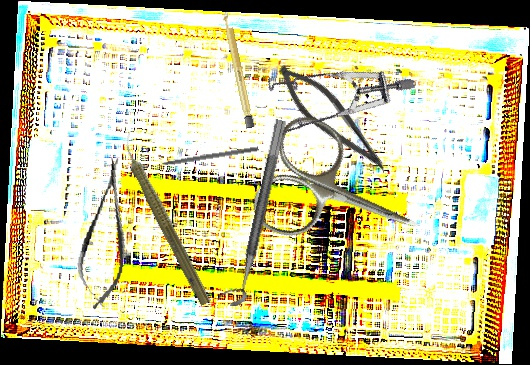Fixation Ring: (216, 115, 288, 309)
Handpiece: (112, 130, 218, 308)
Hook Surgical: (147, 145, 259, 169)
Iris Scissors: (244, 107, 442, 284)
Micro Scissor: (266, 56, 401, 180), (70, 153, 142, 314)
Scalpel Handle: (221, 10, 256, 129)
Speculum: (248, 28, 418, 179)
